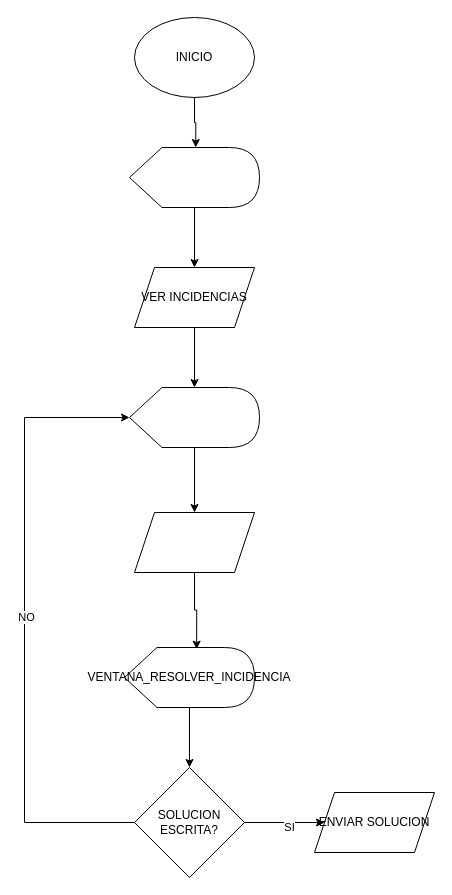
Some shapes in this 452 by 895 pixel diagram are drawn without their labels. Here are the shapes that lost their labels. From the top down, the centre of each, then its label:
At (x=194, y=177): "VENTANA_PRINCIPAL_USUARIO".
At (x=194, y=417): "VENTANA_LISTA_INCIDENCIAS".
At (x=194, y=542): "RESOLVER INCIDENCIA".
